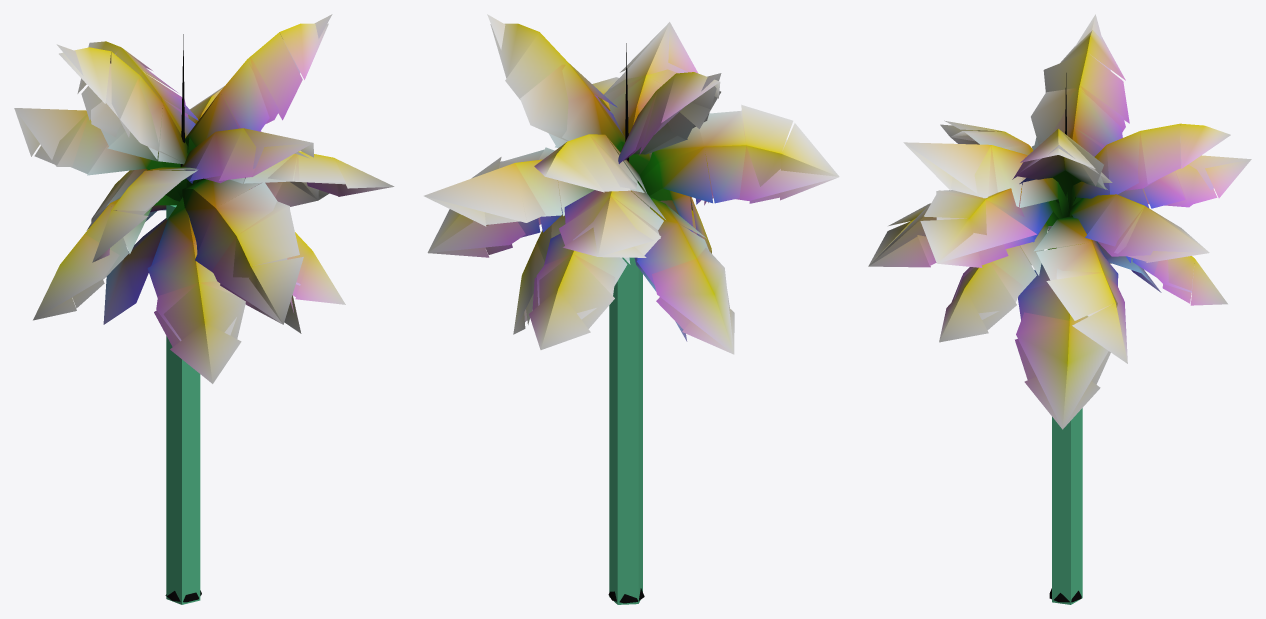
The model's file is tree_palm_c.dae.
3 views of the same model, side by side, from view 1: azimuth 30°, elevation 25°; view 2: azimuth 150°, elevation 25°; view 3: azimuth 270°, elevation 25° (orthographic). The views are drawn at different scales.
Visible parts, largest first — view 1: tree_oak_bush_a350, tree_oak_bush_a150, Colmesh-1; view 2: tree_oak_bush_a350, tree_oak_bush_a150, Colmesh-1; view 3: tree_oak_bush_a350, tree_oak_bush_a150, Colmesh-1.
Part boxes in pixels (x1,y1,x2,y2): tree_oak_bush_a350: [14, 23, 394, 602]; tree_oak_bush_a150: [14, 14, 345, 341]; Colmesh-1: [166, 205, 200, 604]; tree_oak_bush_a350: [424, 22, 839, 603]; tree_oak_bush_a150: [424, 14, 838, 354]; Colmesh-1: [609, 257, 642, 604]; tree_oak_bush_a350: [868, 30, 1251, 602]; tree_oak_bush_a150: [869, 14, 1251, 429]; Colmesh-1: [1052, 408, 1082, 604].
Bounding box in the file's own units: 6.4 × 7.07 × 10.84.
